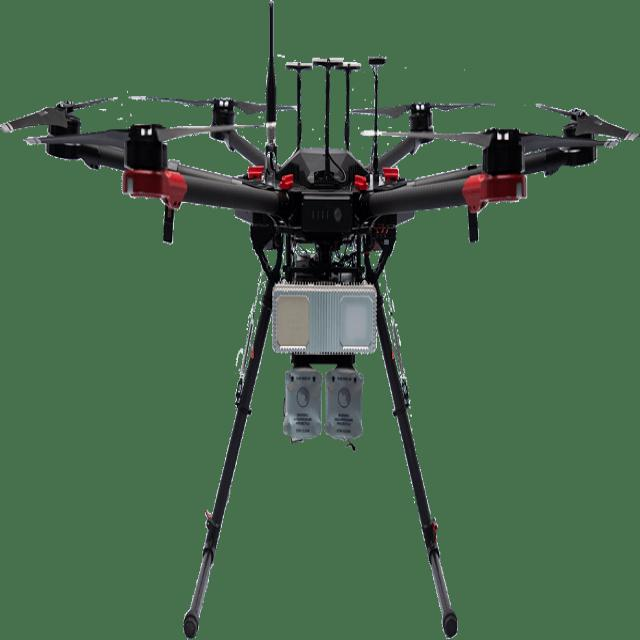drone: (4, 50, 640, 300)
